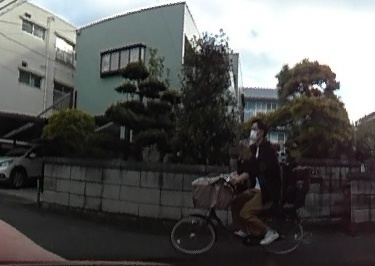person: (233, 115, 287, 232)
